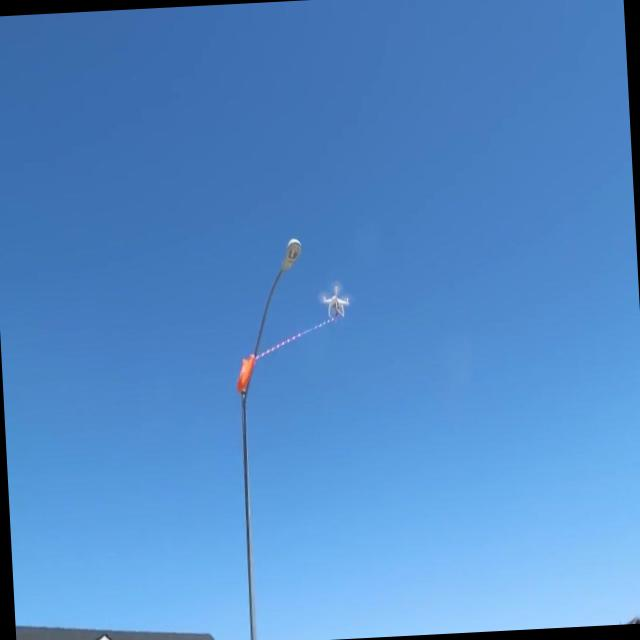drone: (320, 282, 354, 326)
